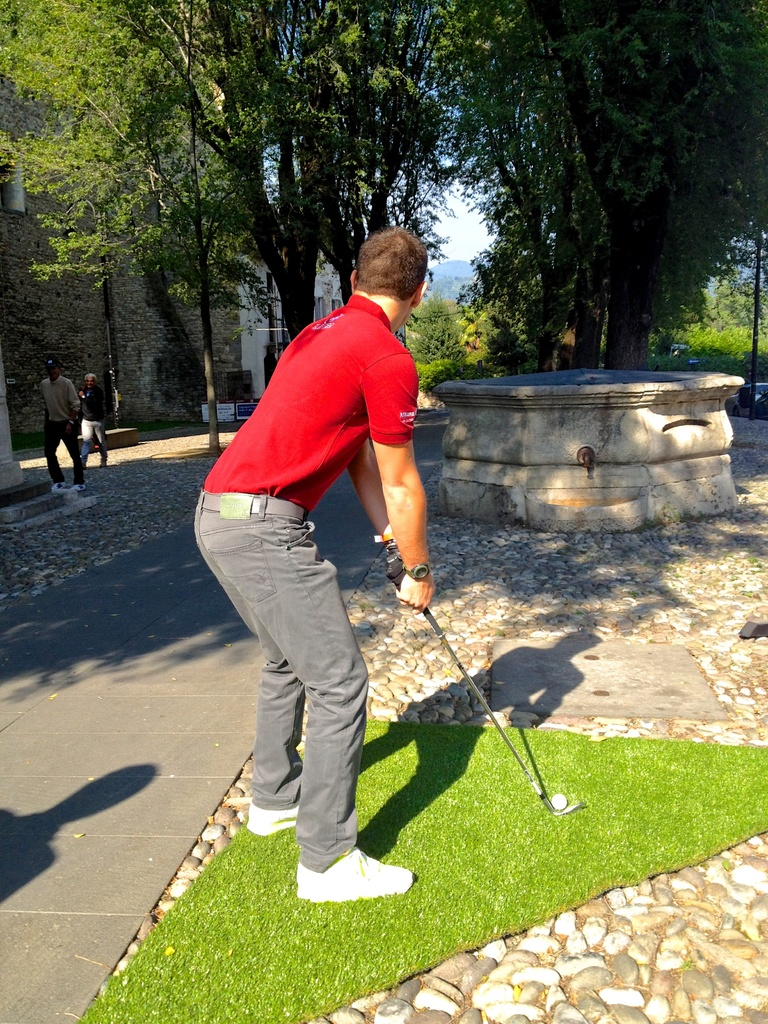Person: (193, 224, 435, 903), (40, 358, 85, 490), (78, 372, 107, 468)
